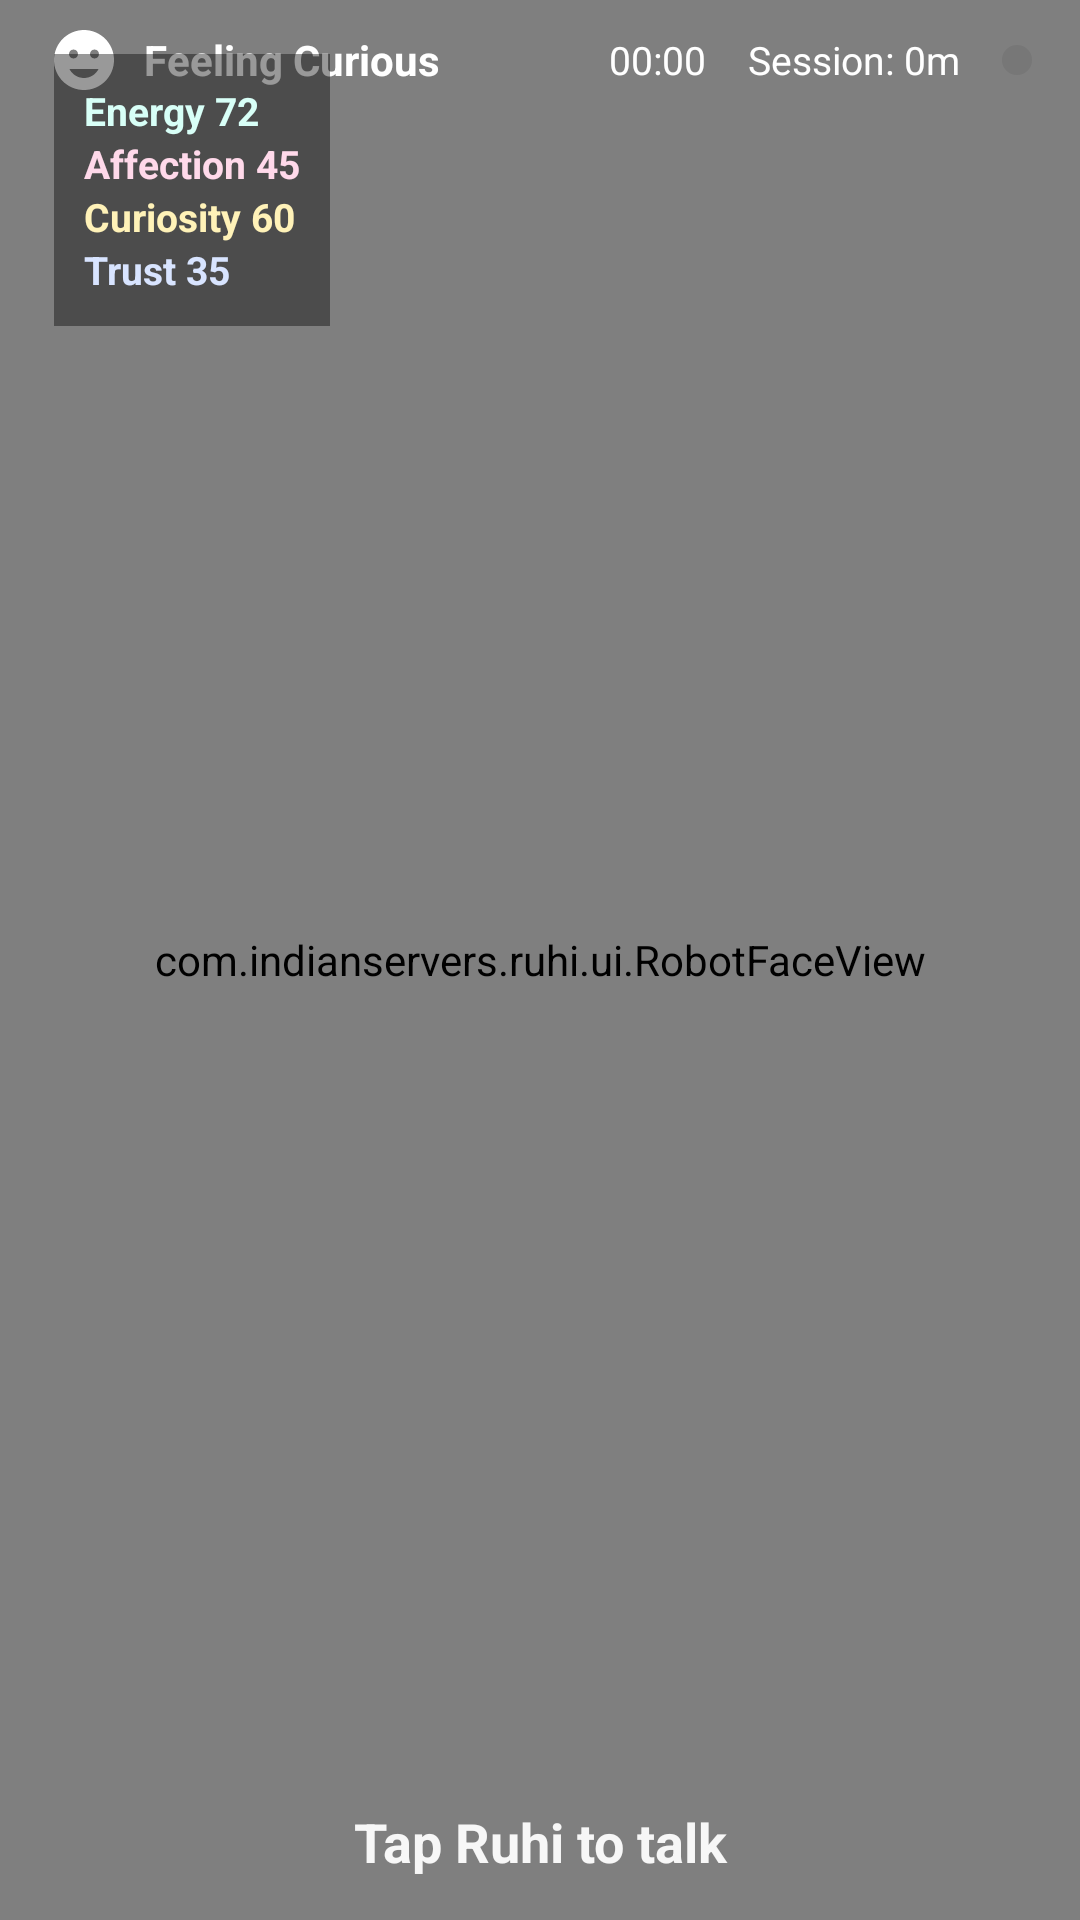

Point at icon controls on the screen. Image size 1080*1920, points as (x=x, y=y).
Mood icon: (x=87, y=63)
